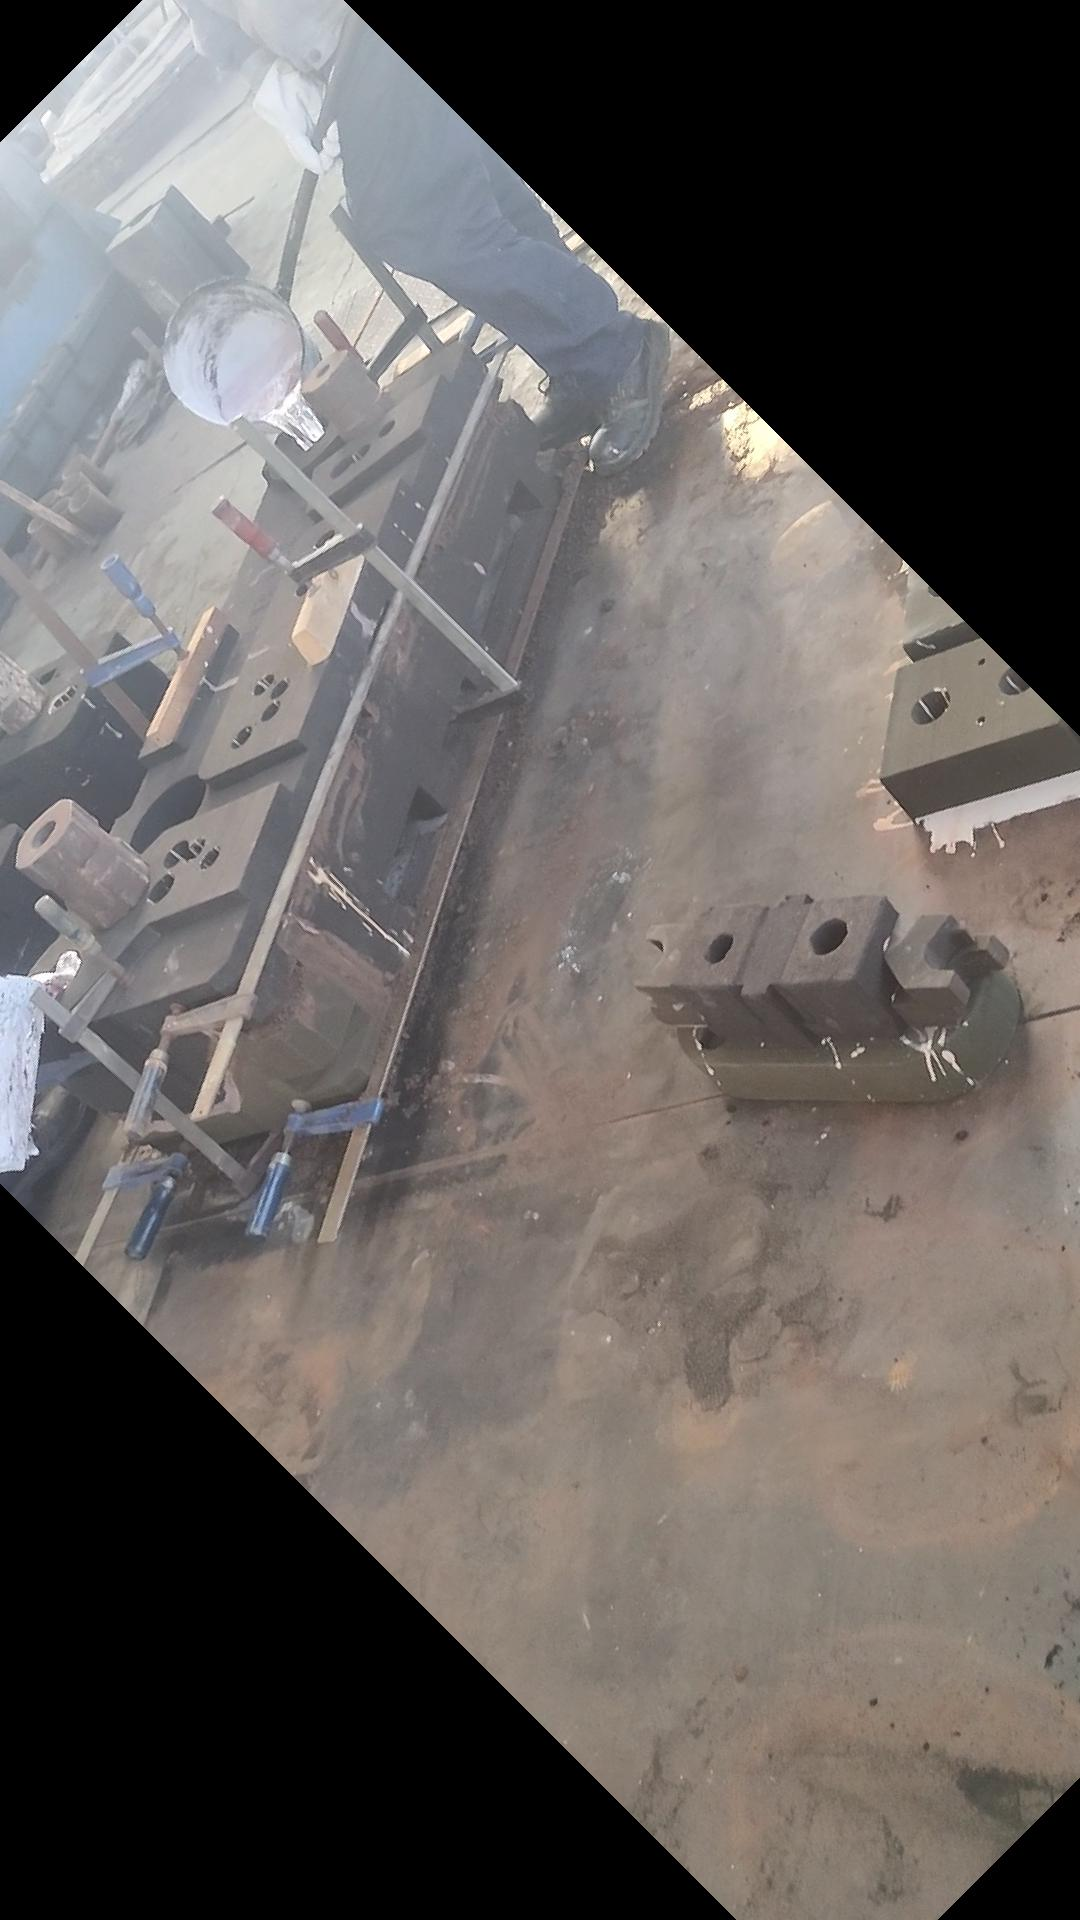pouring hole: (26, 949, 80, 1000), (910, 690, 951, 725), (289, 415, 330, 450), (997, 665, 1034, 695), (55, 472, 82, 495), (66, 485, 88, 512), (61, 454, 84, 477), (32, 488, 58, 509), (45, 497, 67, 520), (927, 575, 947, 597), (26, 514, 46, 533)
